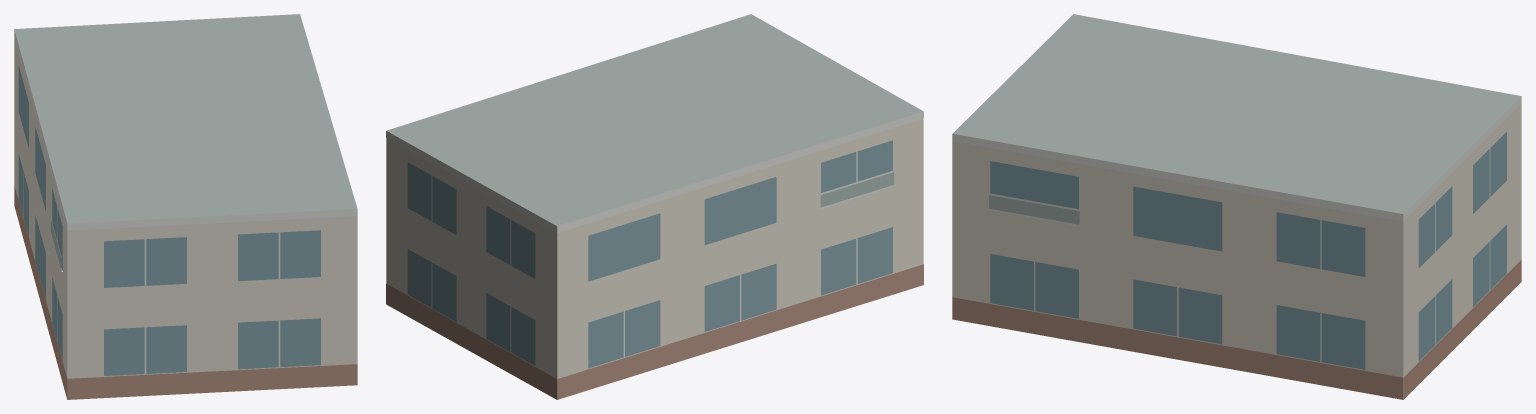
Rendered from survey-upis-32945534.glb.
3 renders of one model, left to right at view 1: azimuth 30°, elevation 25°; view 2: azimuth 150°, elevation 25°; view 3: azimuth 270°, elevation 25°, orthographic. The views are drawn at different scales.
Visible parts, largest first — view 1: survey-upis-32945534.tmp; view 2: survey-upis-32945534.tmp; view 3: survey-upis-32945534.tmp.
Part boxes in pixels (x1=…): survey-upis-32945534.tmp: x1=14, y1=14, x2=357, y2=399; survey-upis-32945534.tmp: x1=386, y1=14, x2=923, y2=399; survey-upis-32945534.tmp: x1=952, y1=14, x2=1521, y2=399.
Size of the model in its own units: 14.11 by 6.1 by 16.95.
